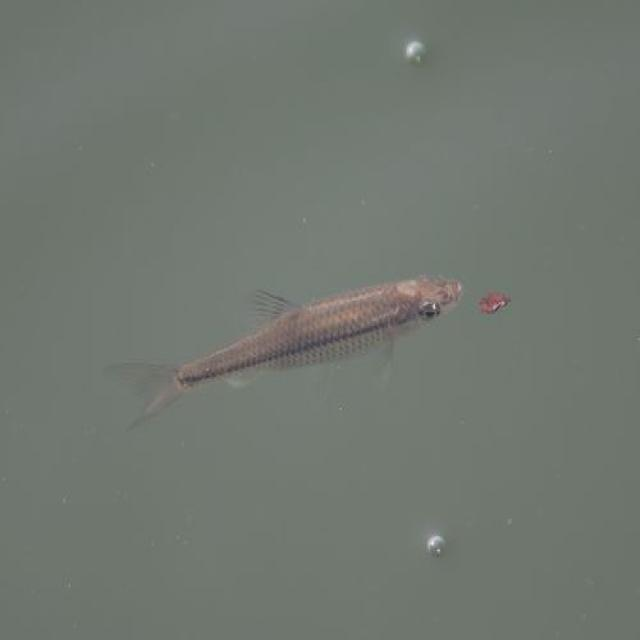Cakil Baligi: (101, 267, 466, 432)
